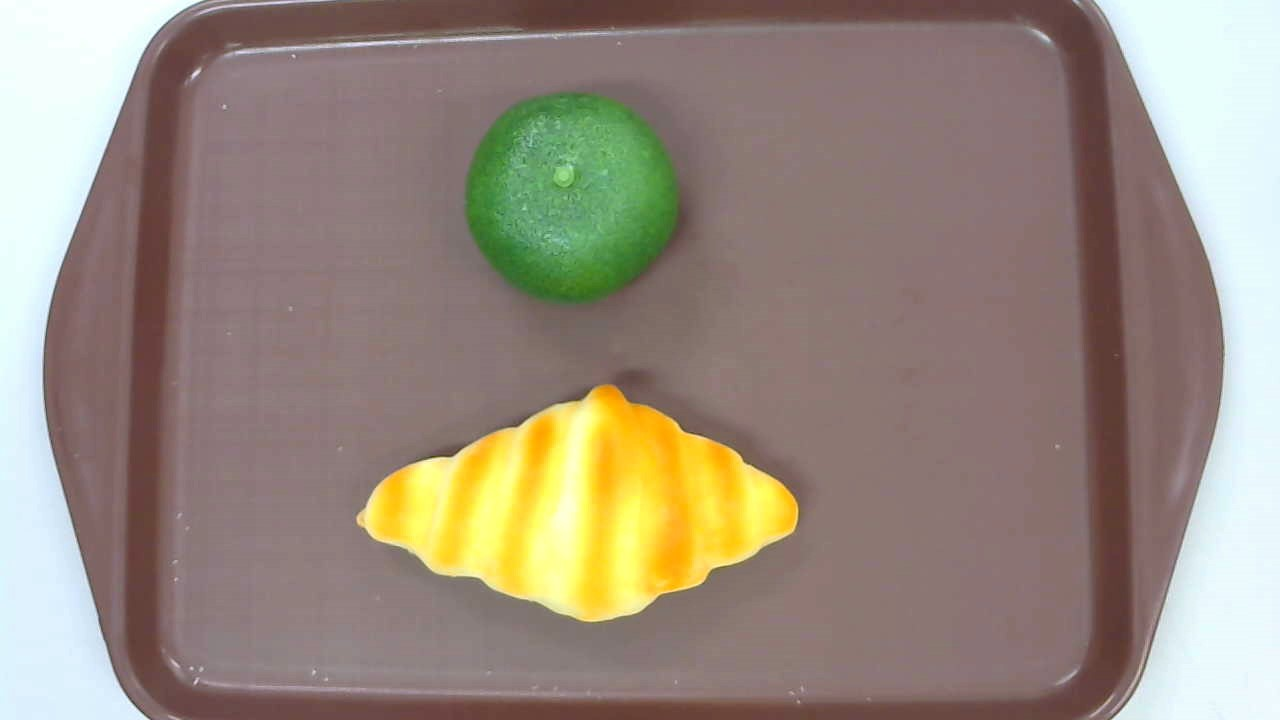croissant: (355, 384, 798, 623)
green orange: (466, 95, 678, 303)
